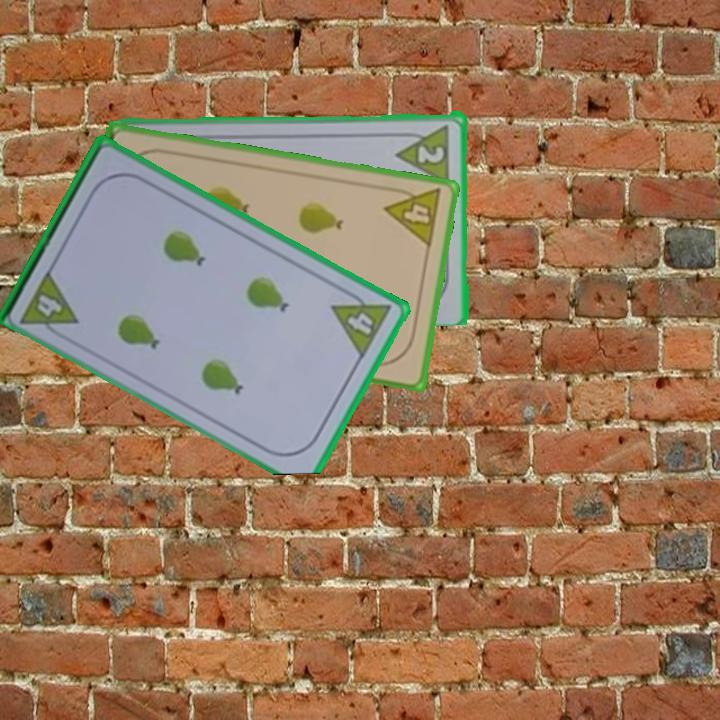2p: (414, 142, 448, 166)
4p: (328, 283, 394, 361), (17, 266, 81, 343), (381, 182, 445, 250)
